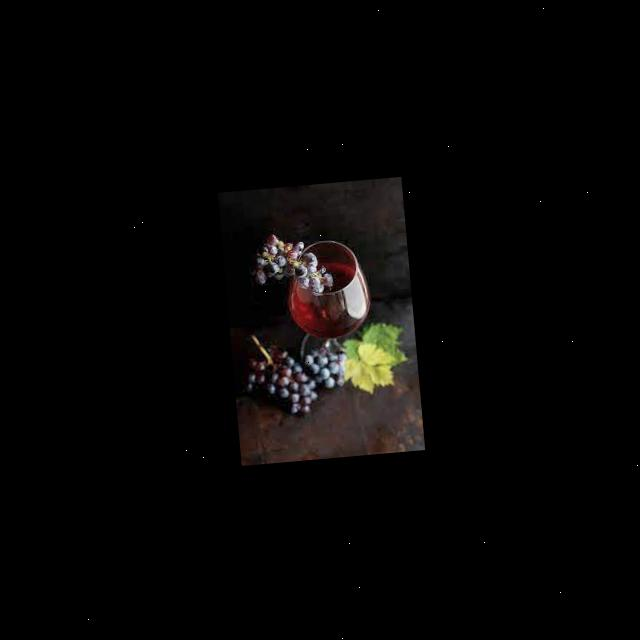grape: (241, 325, 351, 420), (250, 227, 334, 299)
